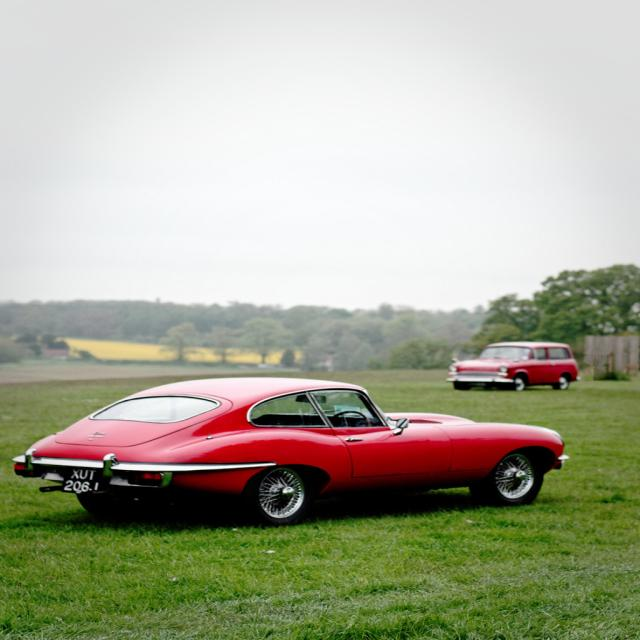car: (9, 376, 569, 528), (442, 340, 582, 390)
